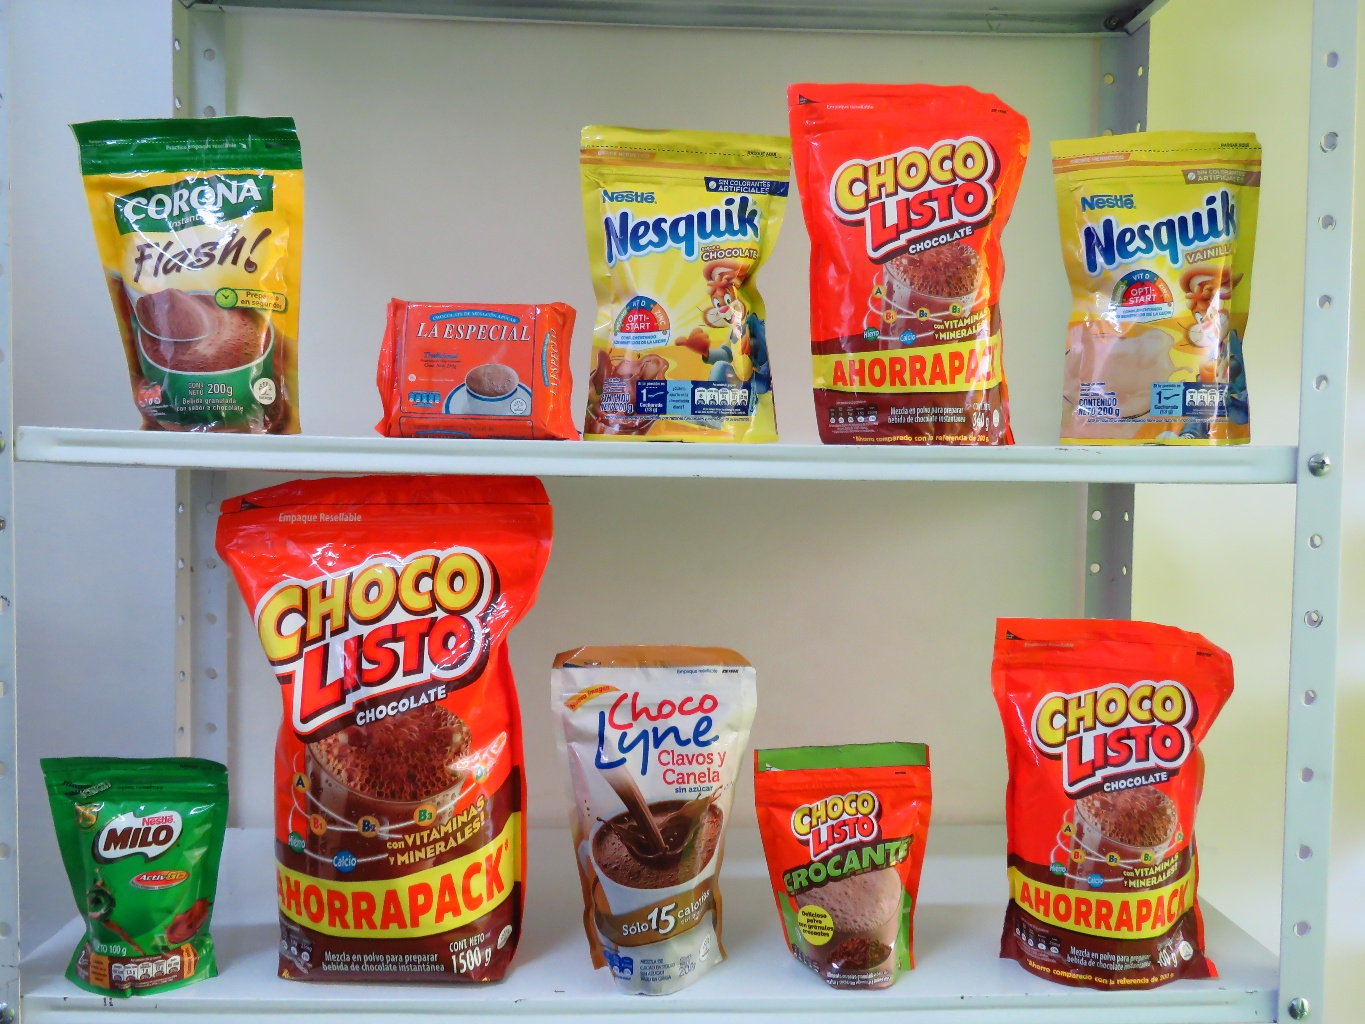COL0170102DYP10000: (758, 733, 933, 996)
COL0170103DYP1,500: (229, 466, 555, 989)
COL0170103DYP36000: (777, 71, 1030, 446)
COL0170103DYP40000: (987, 611, 1243, 991)
COL0170203DYP10000: (37, 755, 236, 999)
COL0170303DYP20000: (580, 122, 800, 444)
COL0170306DYP20000: (1044, 123, 1293, 459)
